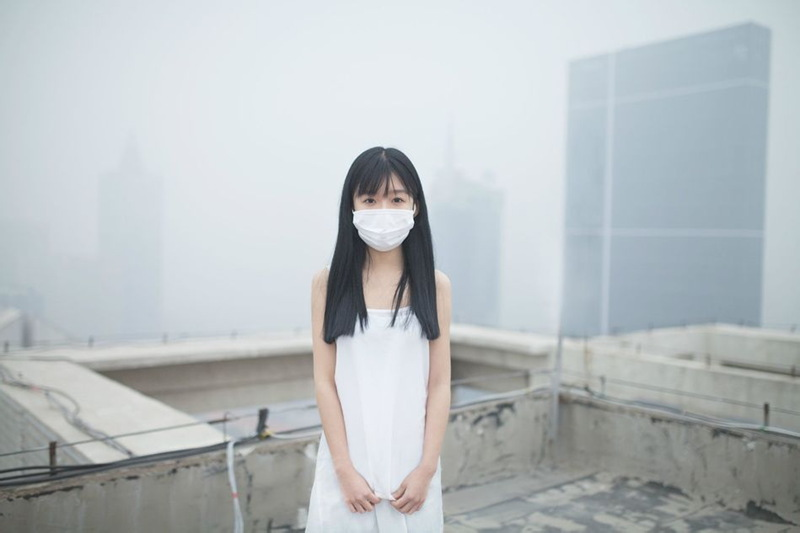face_mask: (354, 176, 414, 250)
